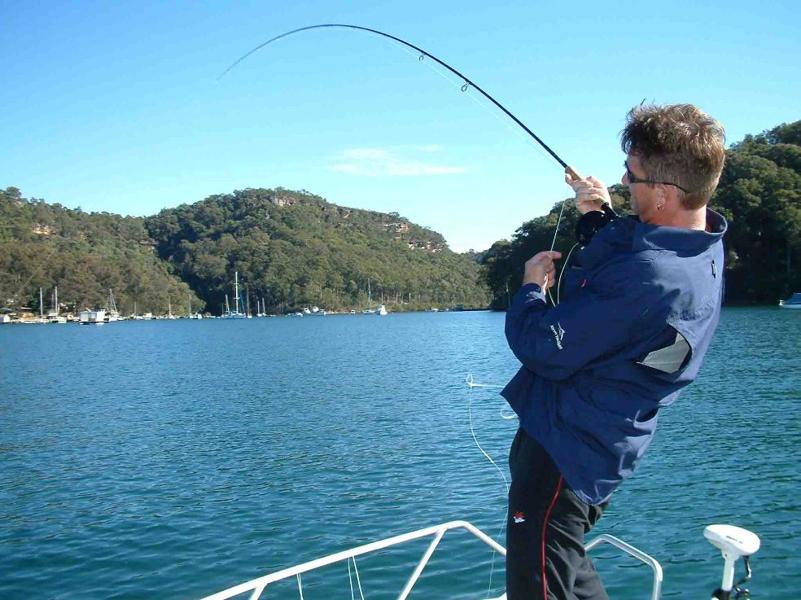person: (501, 105, 729, 600)
